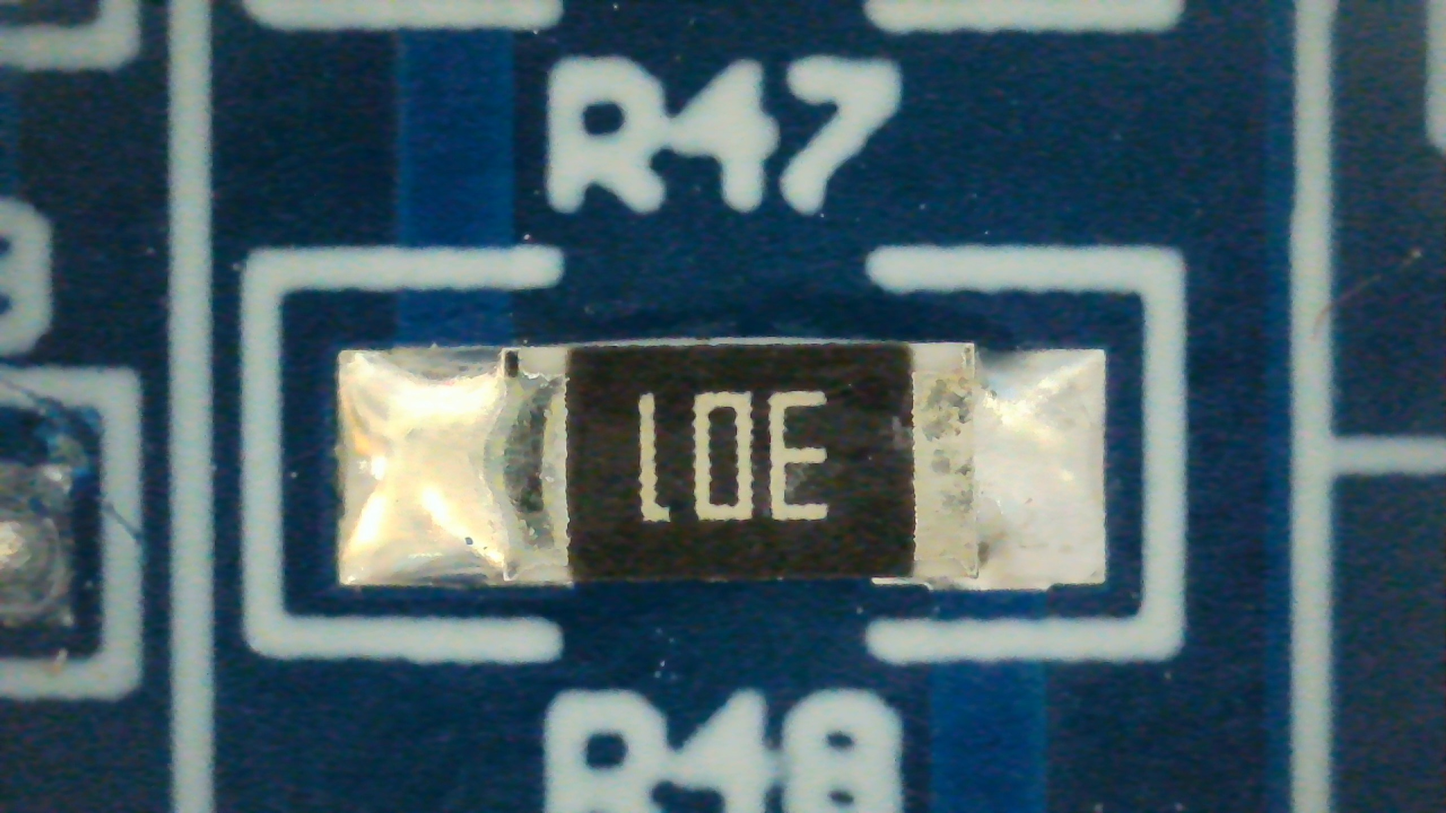OK: (338, 342, 1105, 593)
